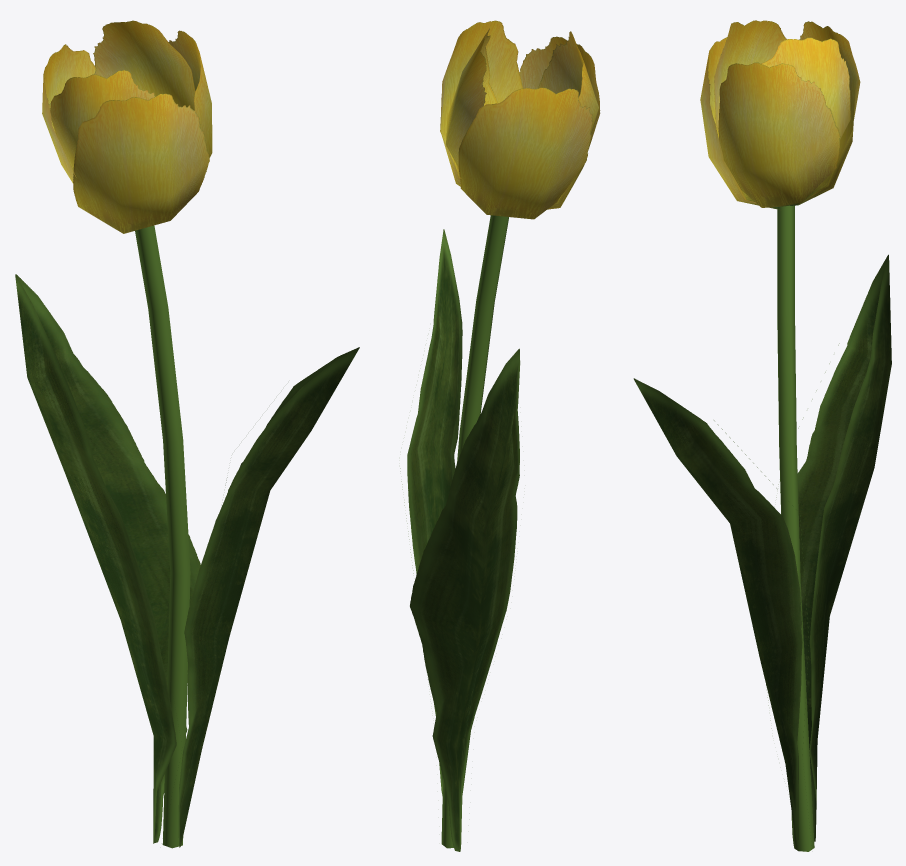
The model's file is FlowerYellow.glb.
The picture shows the model from 3 angles, left to right: view 1: azimuth 30°, elevation 25°; view 2: azimuth 150°, elevation 25°; view 3: azimuth 270°, elevation 25°; orthographic projection. The views are drawn at different scales.
Visible parts, largest first — view 1: SM_Flower1; view 2: SM_Flower1; view 3: SM_Flower1.
Part boxes in pixels (x1,y1,x2,y2): SM_Flower1: [15, 20, 359, 848]; SM_Flower1: [400, 20, 600, 851]; SM_Flower1: [633, 20, 891, 851].
Bounding box in the file's own units: 0.0627 × 0.2151 × 0.0637.
Materials: 1 (1 with a texture image).
